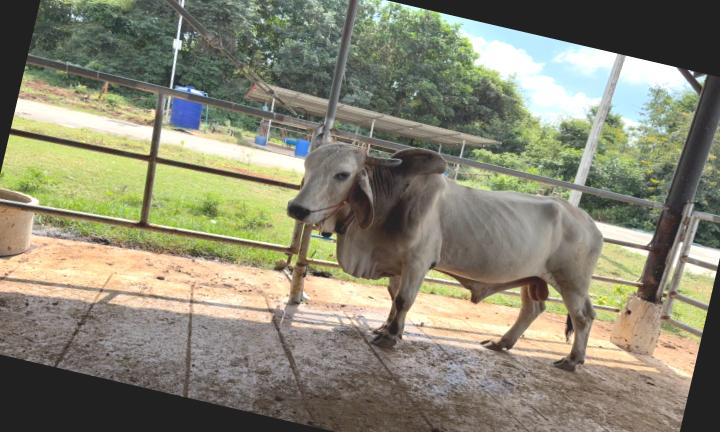Brahman: (287, 134, 603, 371)
